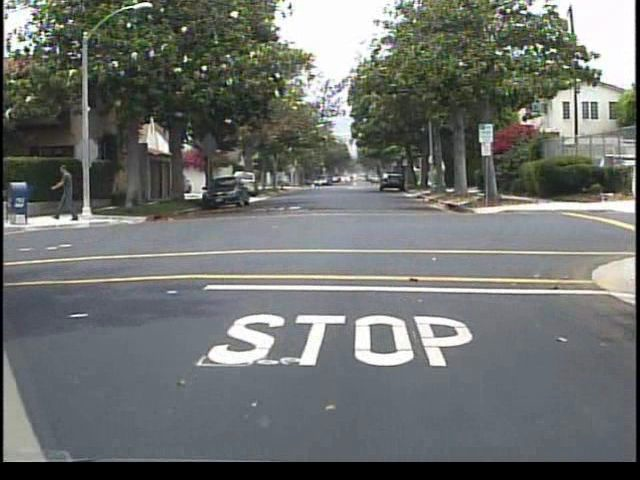person: (54, 160, 84, 226)
